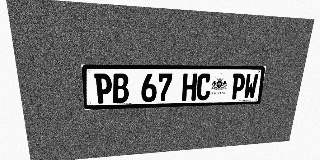6: (141, 74, 157, 102)
7: (157, 74, 173, 102)
B: (112, 74, 129, 103)
C: (196, 74, 212, 101)
H: (182, 74, 197, 101)
P: (94, 74, 112, 104), (230, 74, 246, 99)
W: (243, 74, 259, 99)
